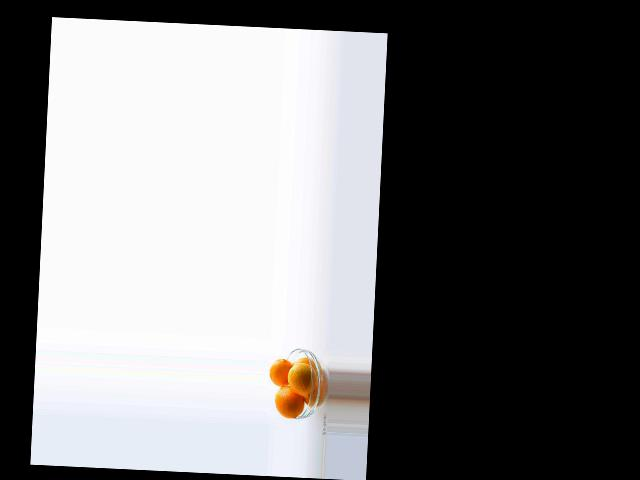lemon: (273, 383, 300, 420)
